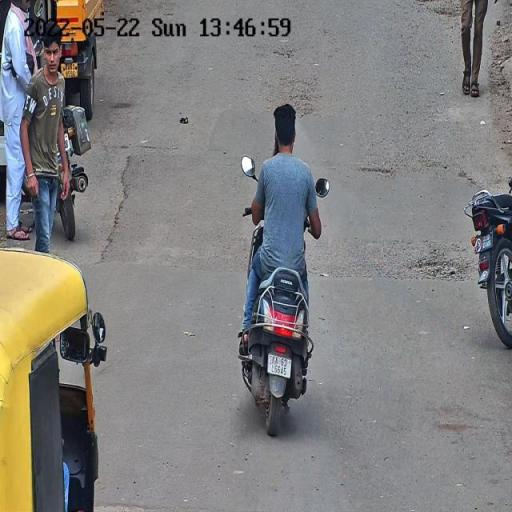numberplate: (265, 349, 294, 375)
using mobile: (270, 126, 282, 158)
